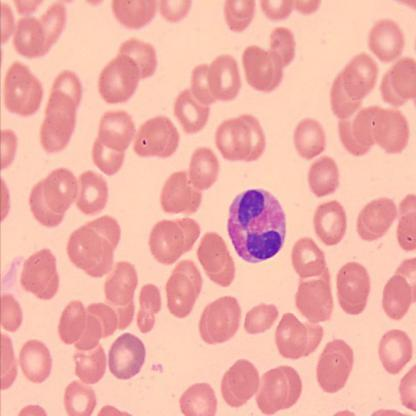Eosinophil: (228, 188, 286, 264)
